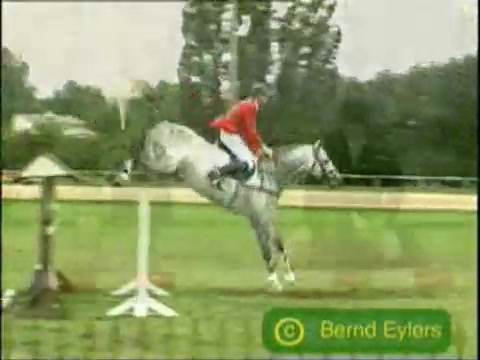horse: (116, 119, 344, 298)
